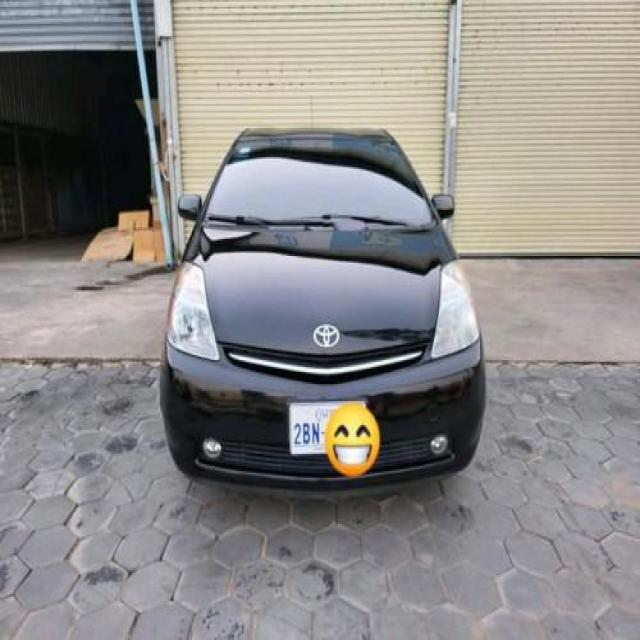Phnom_Penh: (315, 408, 333, 421)
